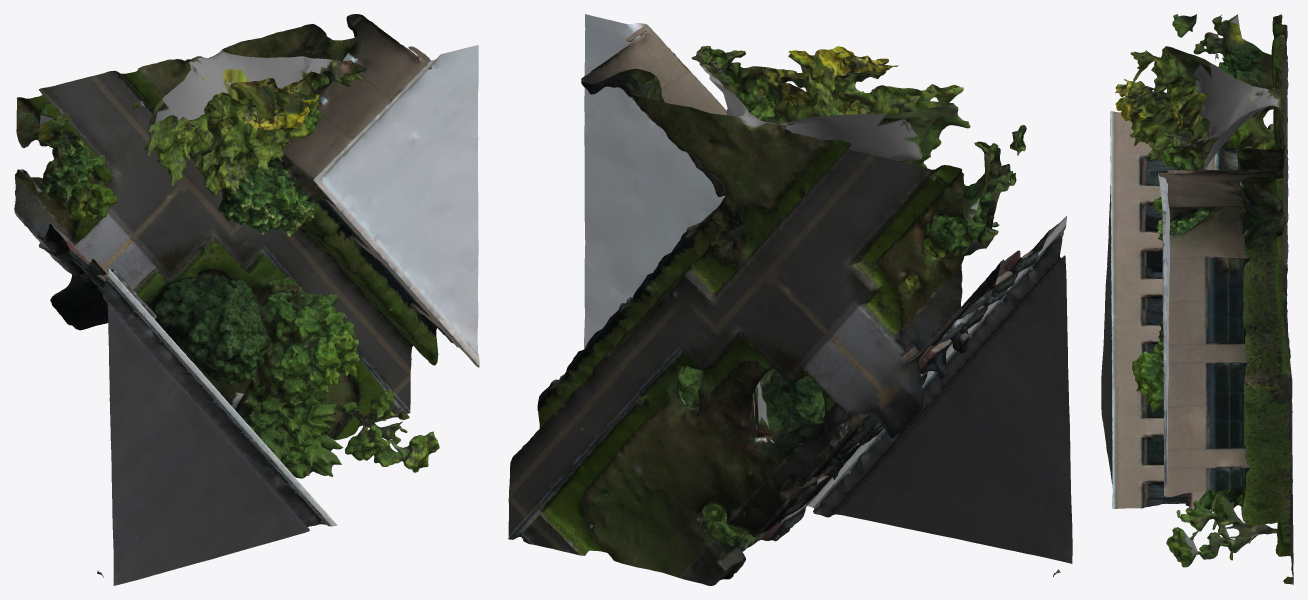
File: Tile_+009_+013.fbx
The picture shows the model from 3 angles, left to right: view 1: azimuth 30°, elevation 25°; view 2: azimuth 150°, elevation 25°; view 3: azimuth 270°, elevation 25°; orthographic projection. The views are drawn at different scales.
Visible parts, largest first — view 1: DefaultName; view 2: DefaultName; view 3: DefaultName.
Boxes of the visible parts, x1=… form: DefaultName: x1=14, y1=14, x2=479, y2=585; DefaultName: x1=508, y1=14, x2=1072, y2=585; DefaultName: x1=1101, y1=14, x2=1293, y2=584.
Size of the model in its own units: 22.54 by 22.54 by 10.08.
